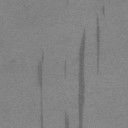red iron: (78, 32, 86, 128), (37, 51, 44, 92), (96, 18, 100, 68), (40, 102, 44, 128), (64, 112, 70, 128), (64, 64, 66, 77), (102, 6, 105, 14)
